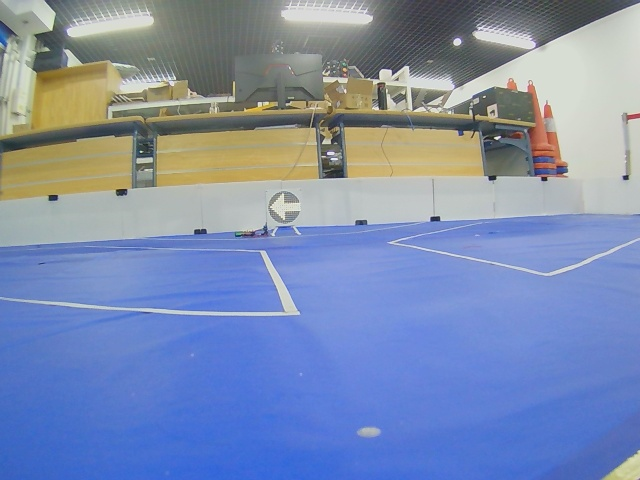left_yellow: (267, 191, 301, 225)
